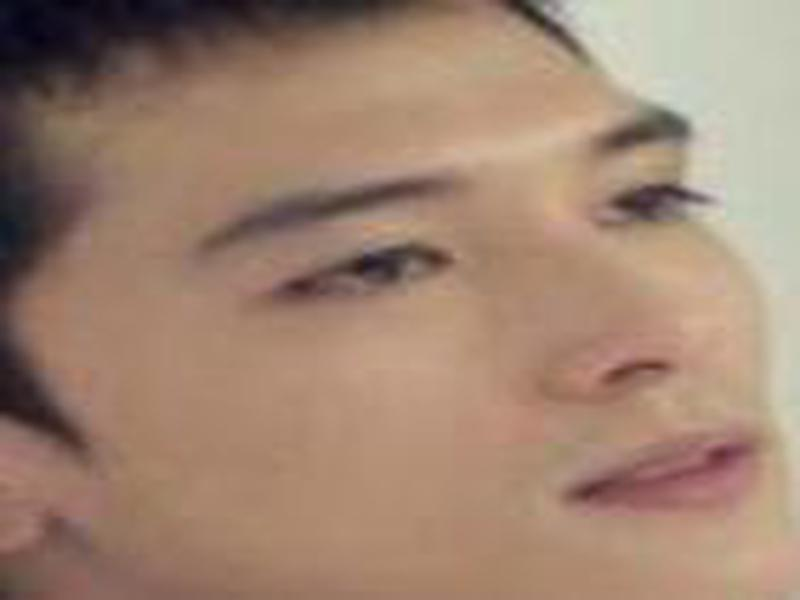without_mask: (27, 21, 789, 600)
